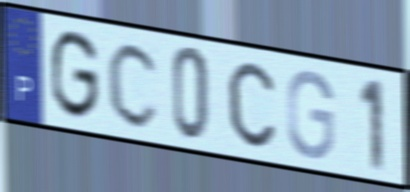0: (169, 45, 216, 146)
1: (357, 76, 387, 175)
C: (105, 38, 162, 131), (225, 59, 278, 151)
G: (48, 27, 101, 124), (285, 66, 336, 162)
